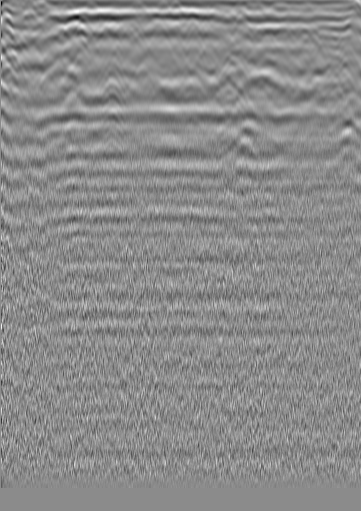가스: (224, 121, 264, 157)
상수: (296, 23, 316, 43)
오수: (22, 39, 42, 59)
우수: (168, 22, 188, 42)
